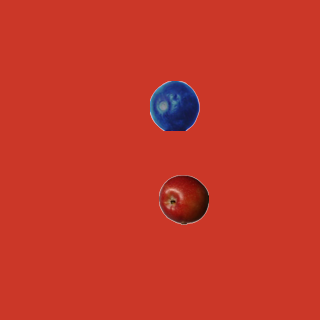Apple Braeburn: (158, 174, 208, 224)
Huckleberry: (149, 80, 199, 130)
